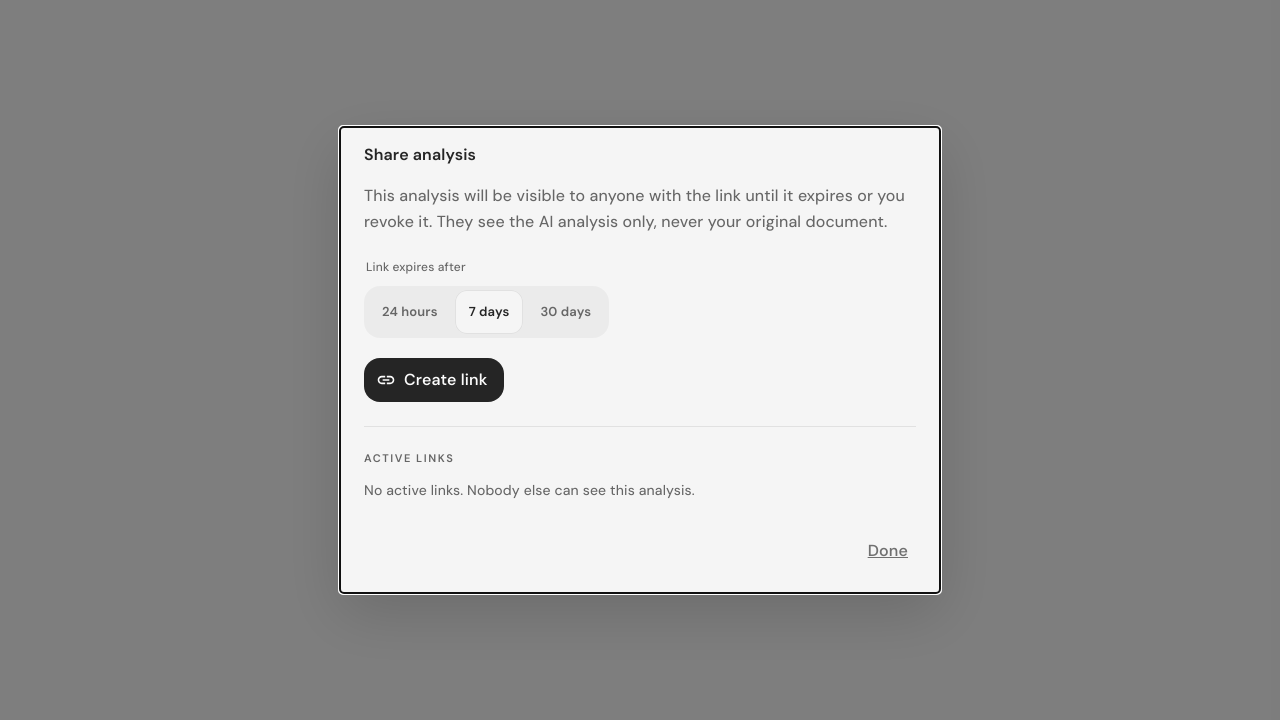
ShareLetterDialog › creates a link with the chosen expiry and shows it once
The image size is (1280, 720).
Step 1. Click the button "30 days" → (566, 312), box [526,290,605,334]
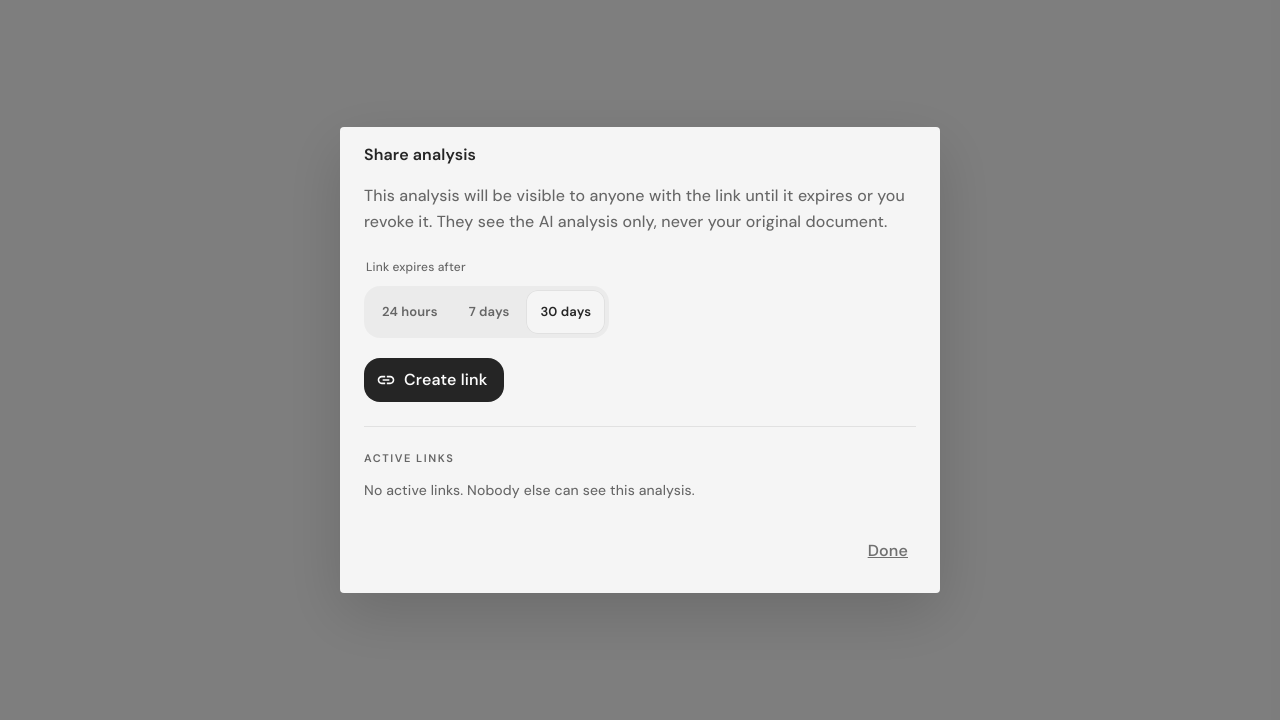
Step 2. Click the button "Create link" → (434, 380), box [364,358,504,402]
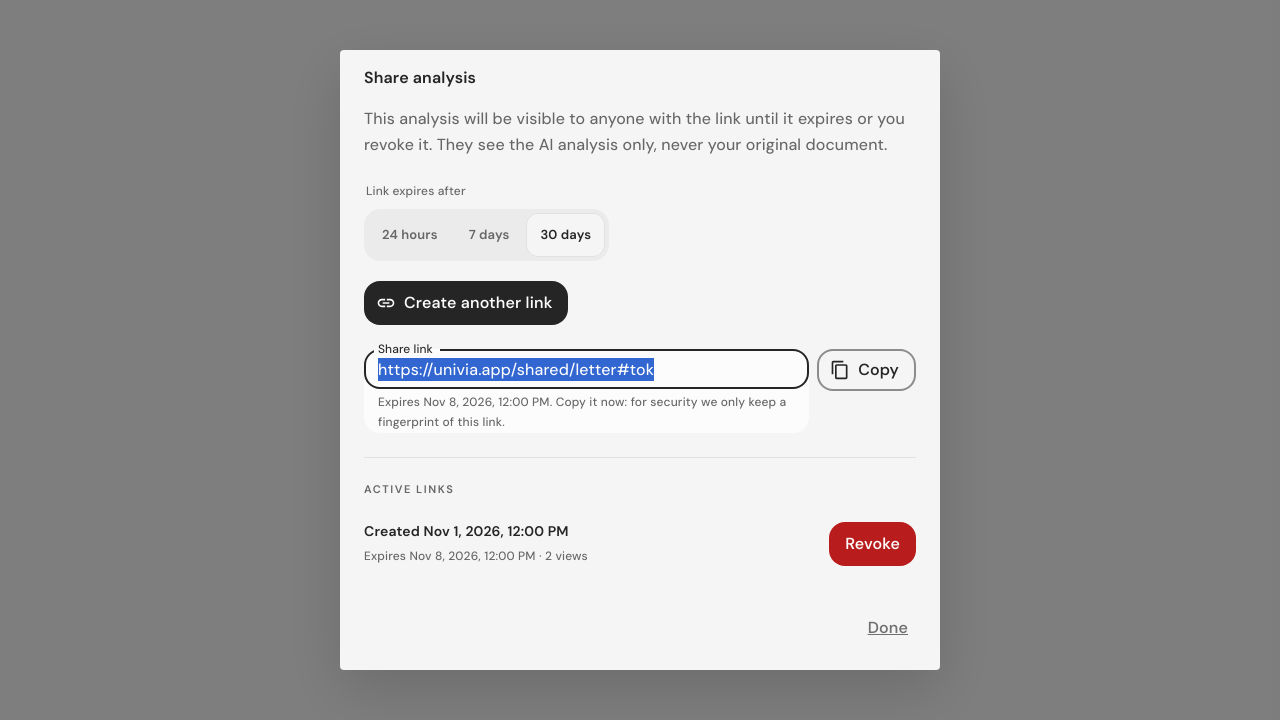
Check: the field labelled "Share link" holds "https://univia.app/shared/letter#tok", box [364,350,809,390]
Check: the text "Expires Nov 8, 2026, 12:00 PM · 2 views" is shown, box [364,548,588,564]
